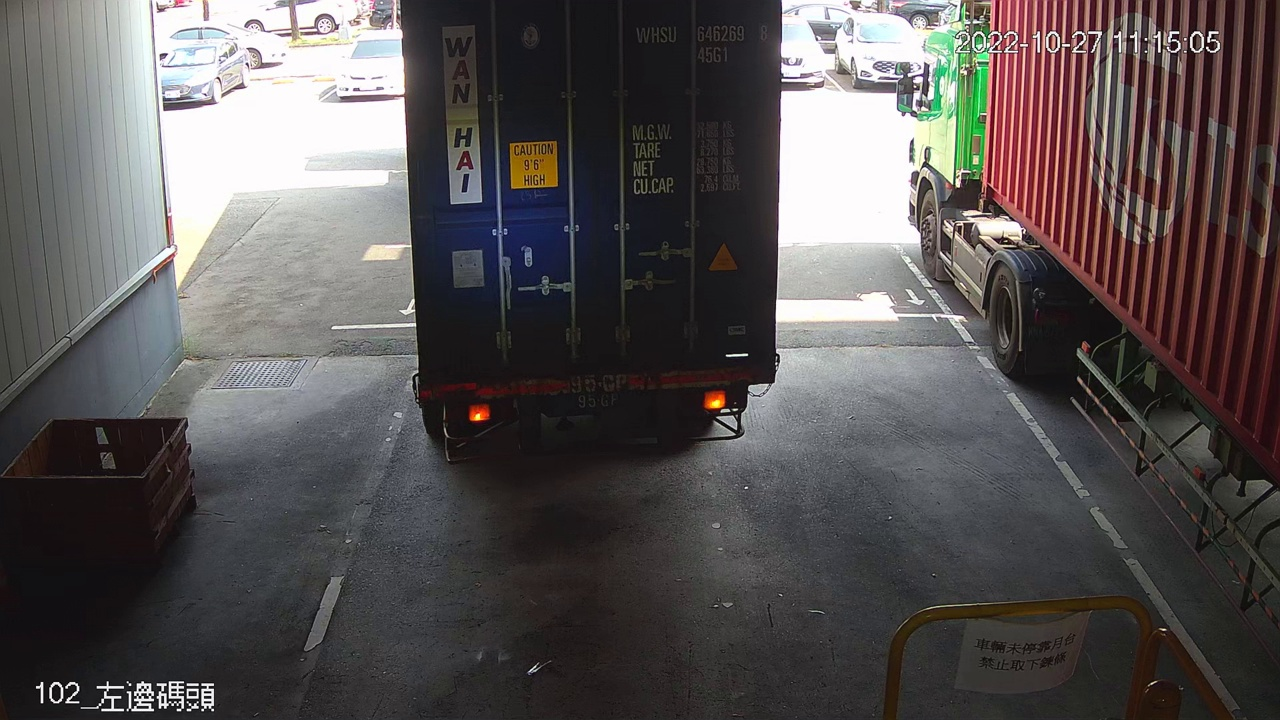container: (630, 18, 774, 67)
